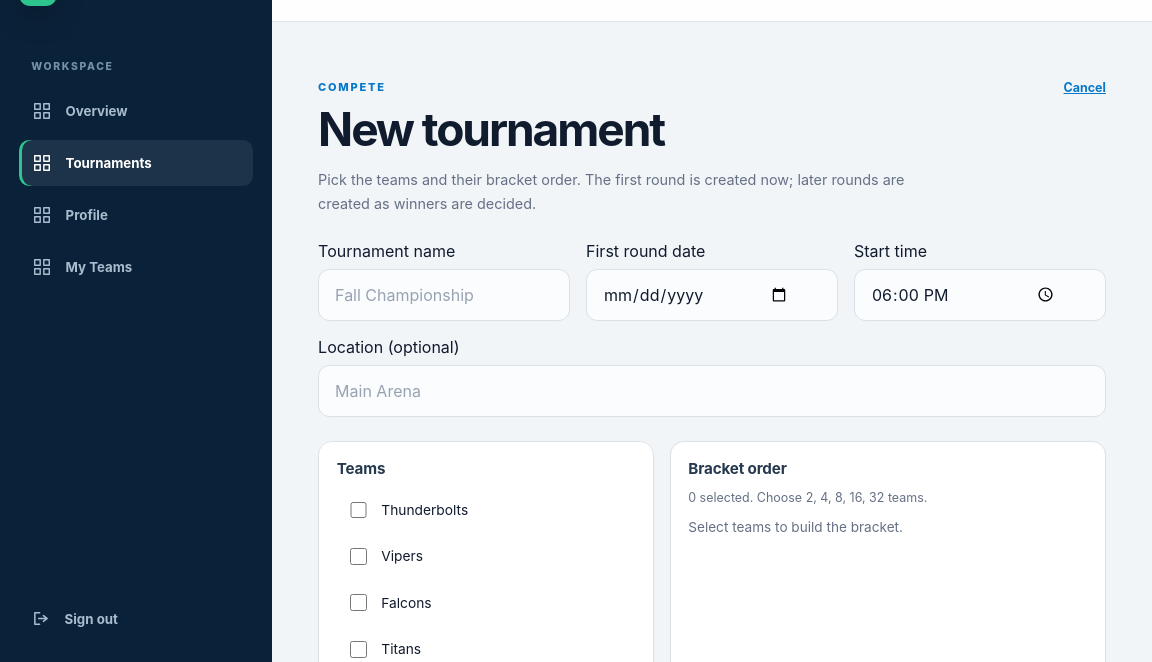
Test case: tournaments › shows the server's message when creating fails
Expected: the checkbox labelled "Thunderbolts" is shown, x1=350 y1=502 x2=367 y2=518
Type "Cup" into the field labelled "Tournament name".
click(444, 294); type("Cup")  # box x1=318 y1=268 x2=570 y2=320
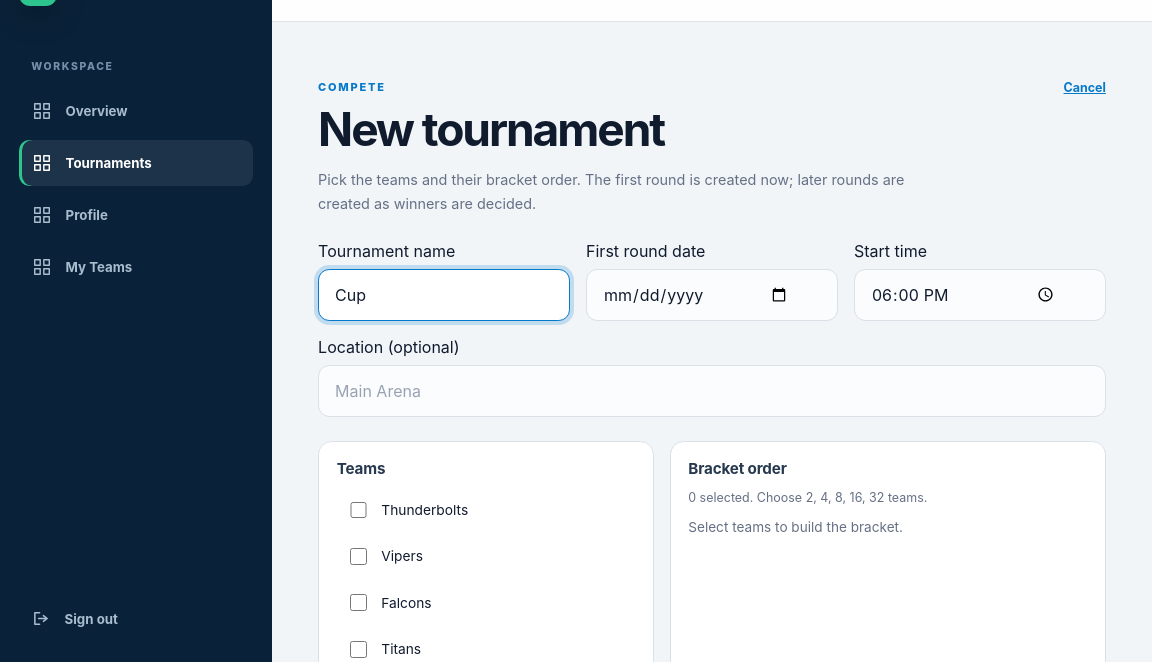
Type "2026-11-01" into the date field labelled "First round date".
click(712, 294); type("2026-11-01")  # box x1=586 y1=268 x2=838 y2=320
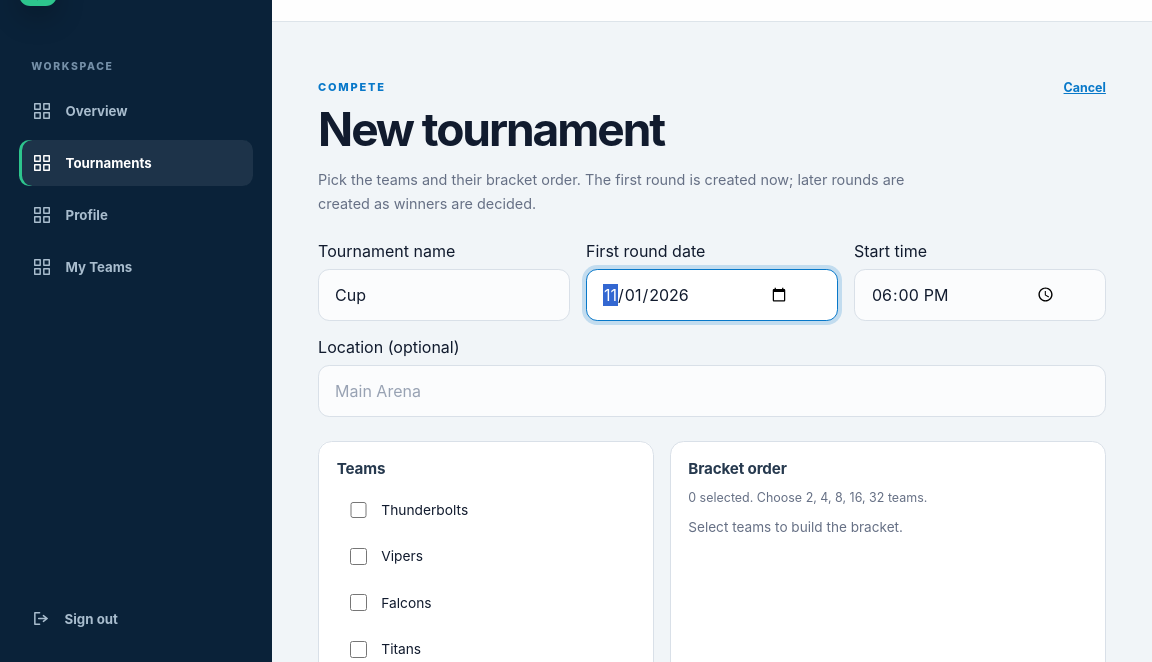
Click the checkbox labelled "Thunderbolts".
click(359, 510)  # box x1=350 y1=502 x2=367 y2=518
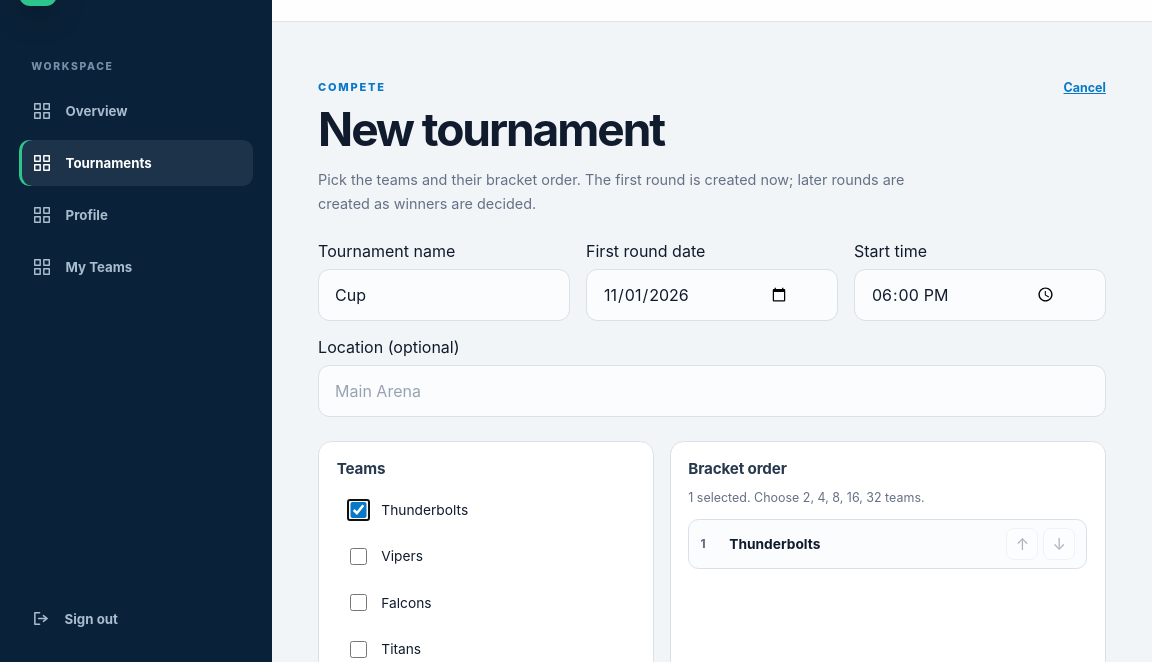
Click the checkbox labelled "Vipers".
click(359, 556)  # box x1=350 y1=548 x2=367 y2=565
(page scrolled)
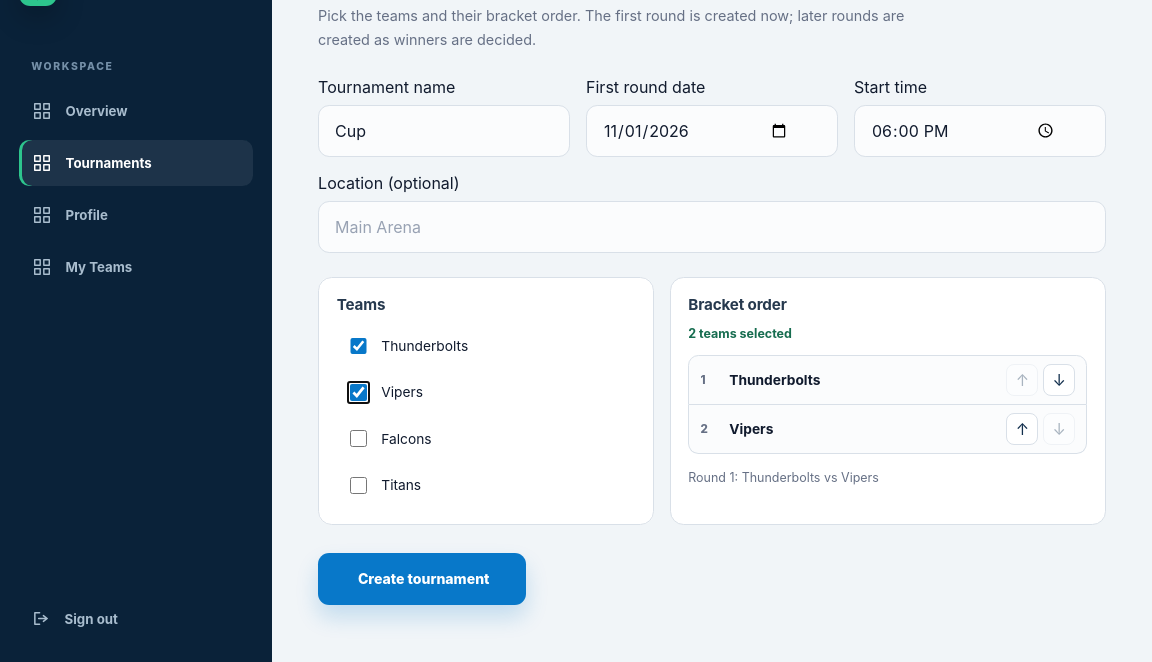
Click the button "Create tournament".
click(422, 579)  # box x1=318 y1=553 x2=526 y2=605
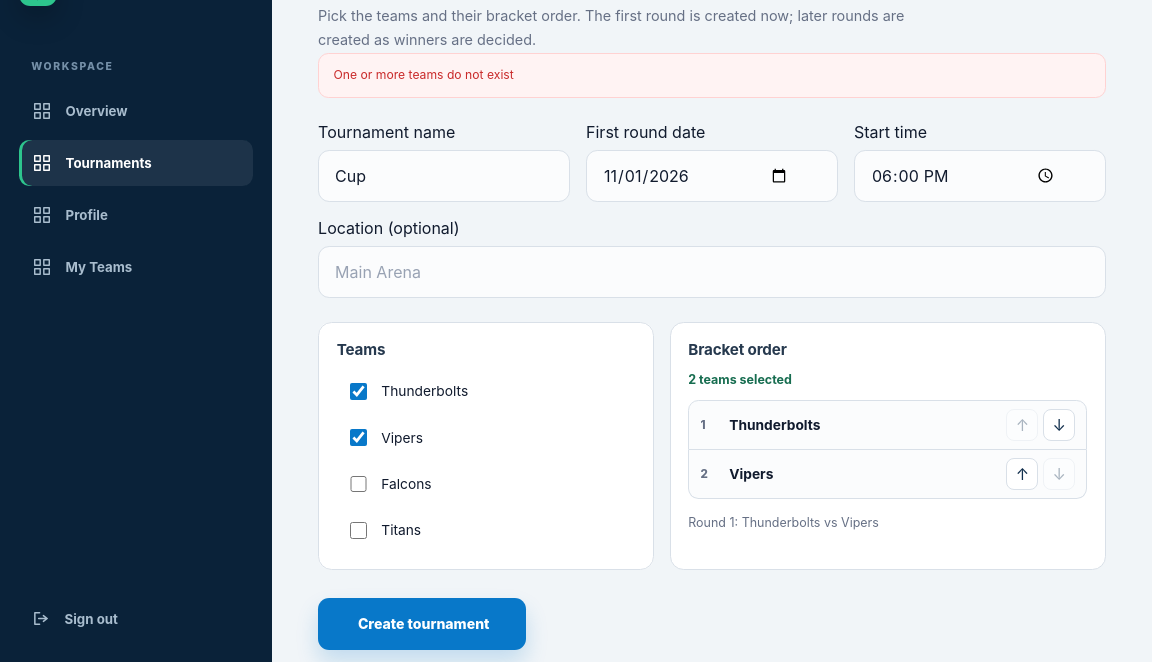
Expected: the message reads "One or more teams do not exist", x1=334 y1=67 x2=514 y2=82
